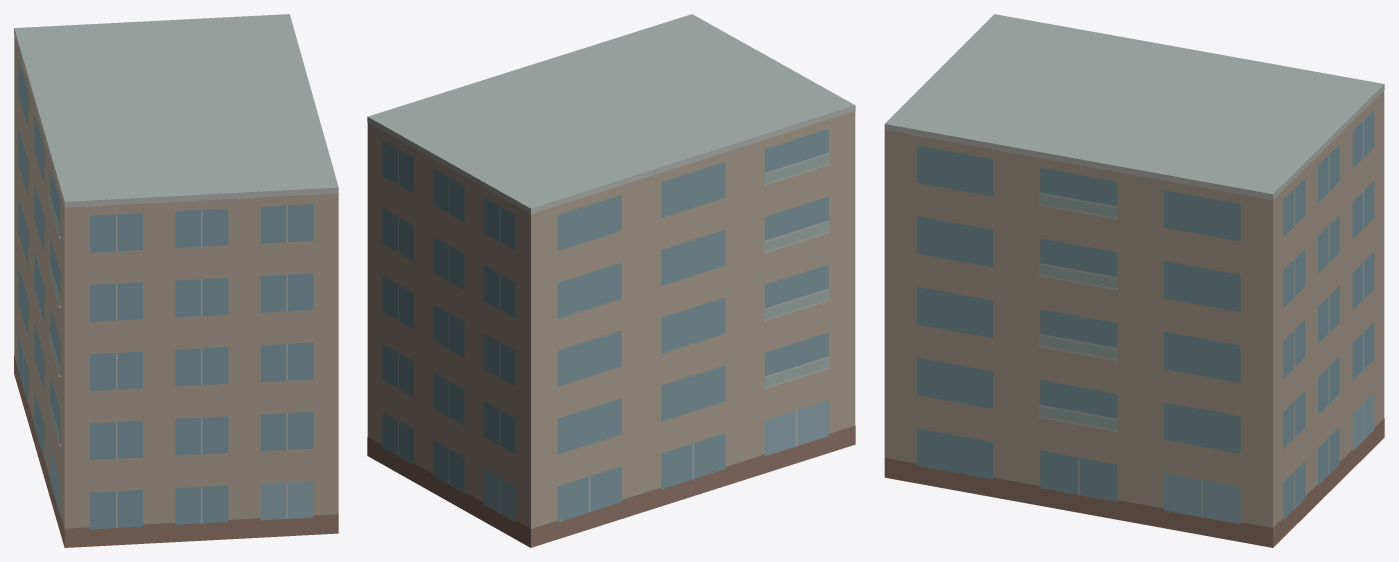
The model's file is survey-upis-32925918.glb.
3 renders of one model, left to right at view 1: azimuth 30°, elevation 25°; view 2: azimuth 150°, elevation 25°; view 3: azimuth 270°, elevation 25°, orthographic. The views are drawn at different scales.
Visible parts, largest first — view 1: survey-upis-32925918.tmp; view 2: survey-upis-32925918.tmp; view 3: survey-upis-32925918.tmp.
Boxes of the visible parts, bbox=[...] form: survey-upis-32925918.tmp: bbox=[14, 14, 338, 547]; survey-upis-32925918.tmp: bbox=[367, 14, 855, 547]; survey-upis-32925918.tmp: bbox=[884, 14, 1384, 547].
Size of the model in its own units: 15.86 by 14.5 by 18.58.
